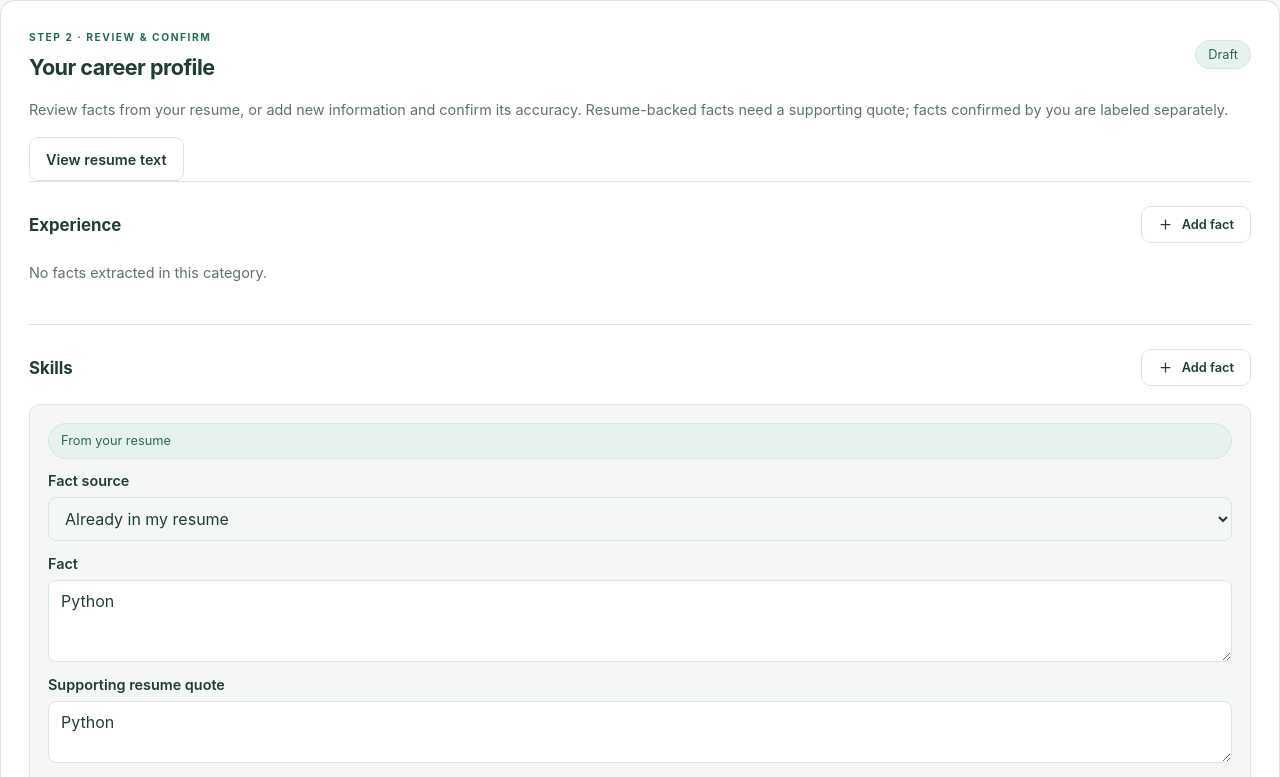
Test case: adds new information at the top, focuses it, and saves with explicit confirmation
This screenshot has width=1280, height=777.
Click the button with aria-label "Add skills fact" at (1196, 368), box [1141,349,1251,386]
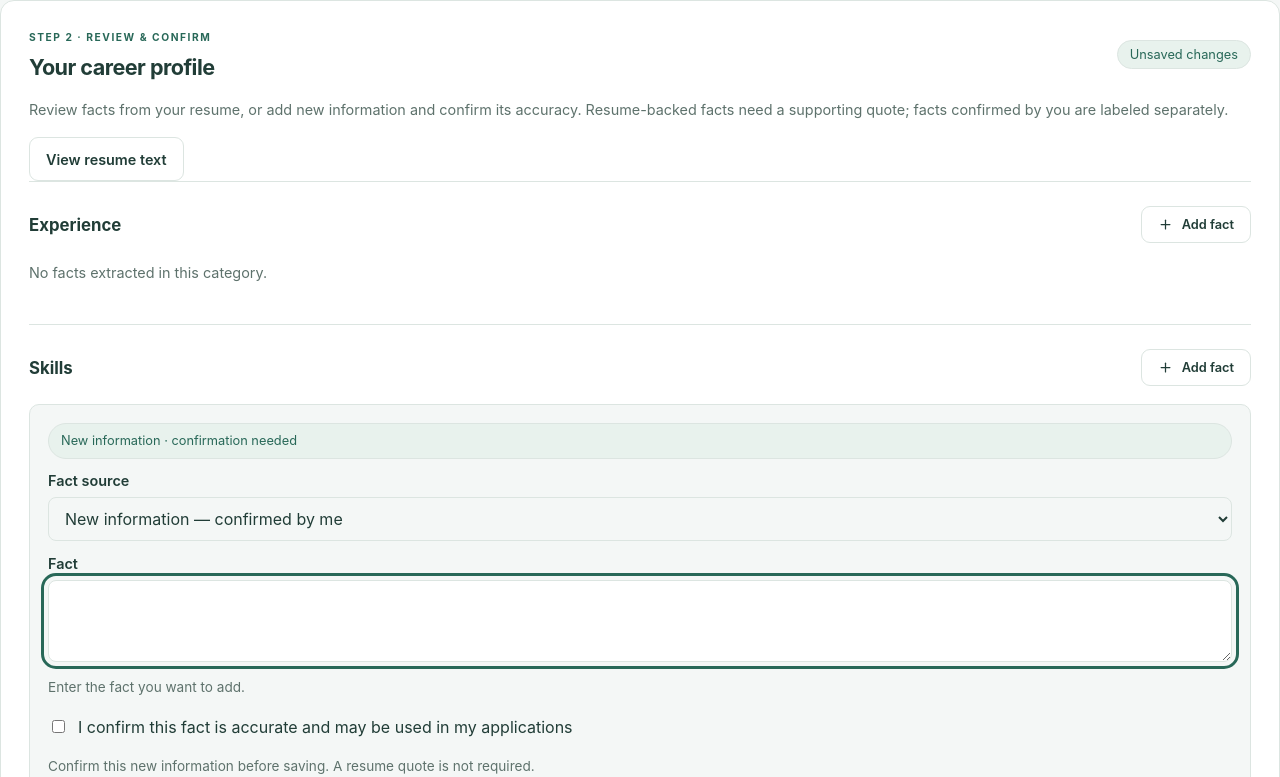
expect the text box labelled "Fact" is empty: met
Type "Terraform infrastructure experience" into the text box labelled "Fact" at (640, 621), box [48,580,1232,662]
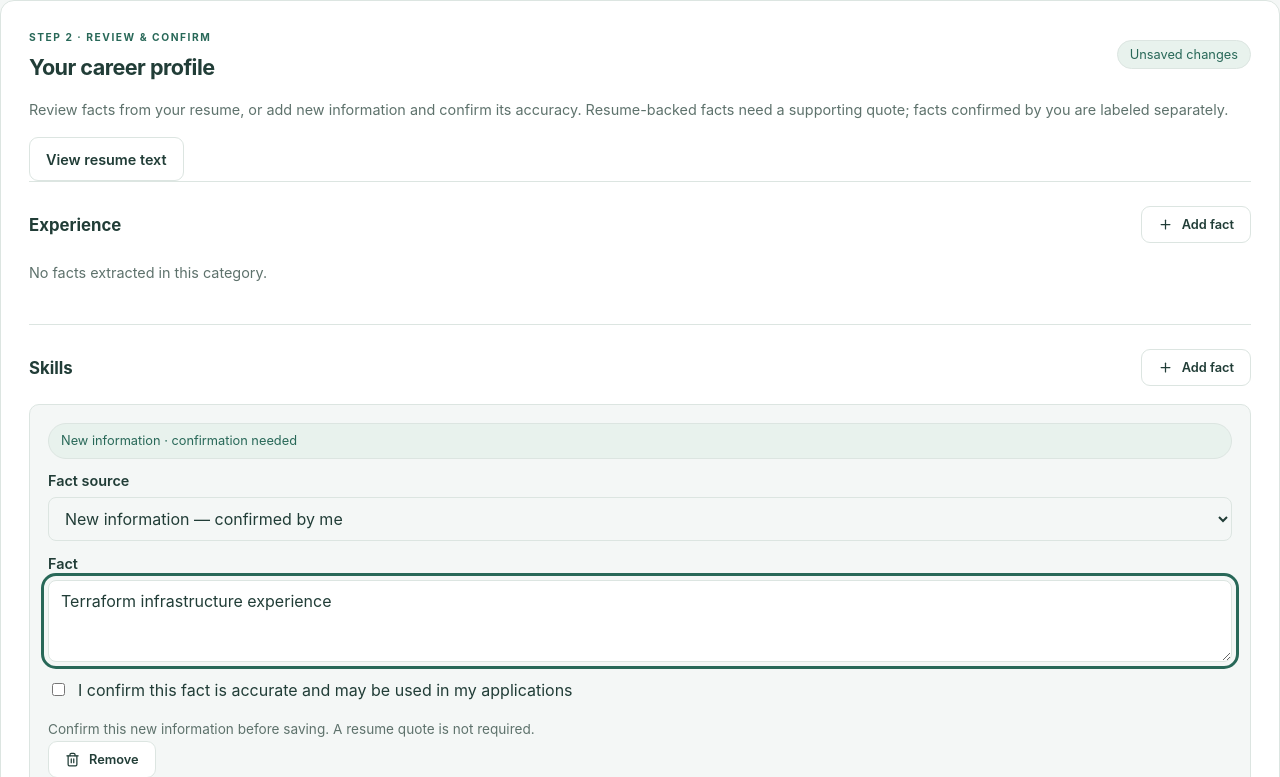
Click the checkbox labelled "I confirm this fact is accurate and may be used in my applications" at (58, 690), box [52,683,65,696]
(page scrolled)
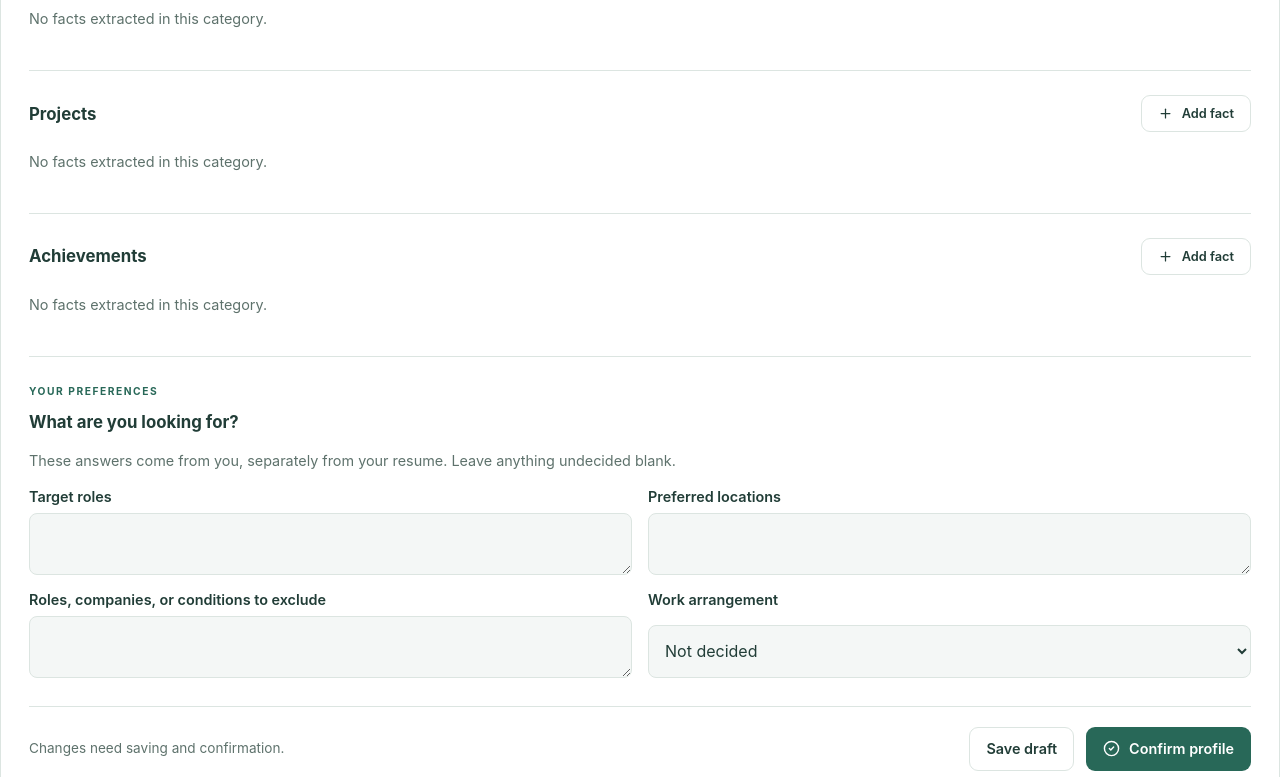
expect the button "Save draft" is enabled: met, box [969,727,1074,771]
Click the button "Confirm profile" at (1169, 749), box [1086,727,1251,771]
(page scrolled)
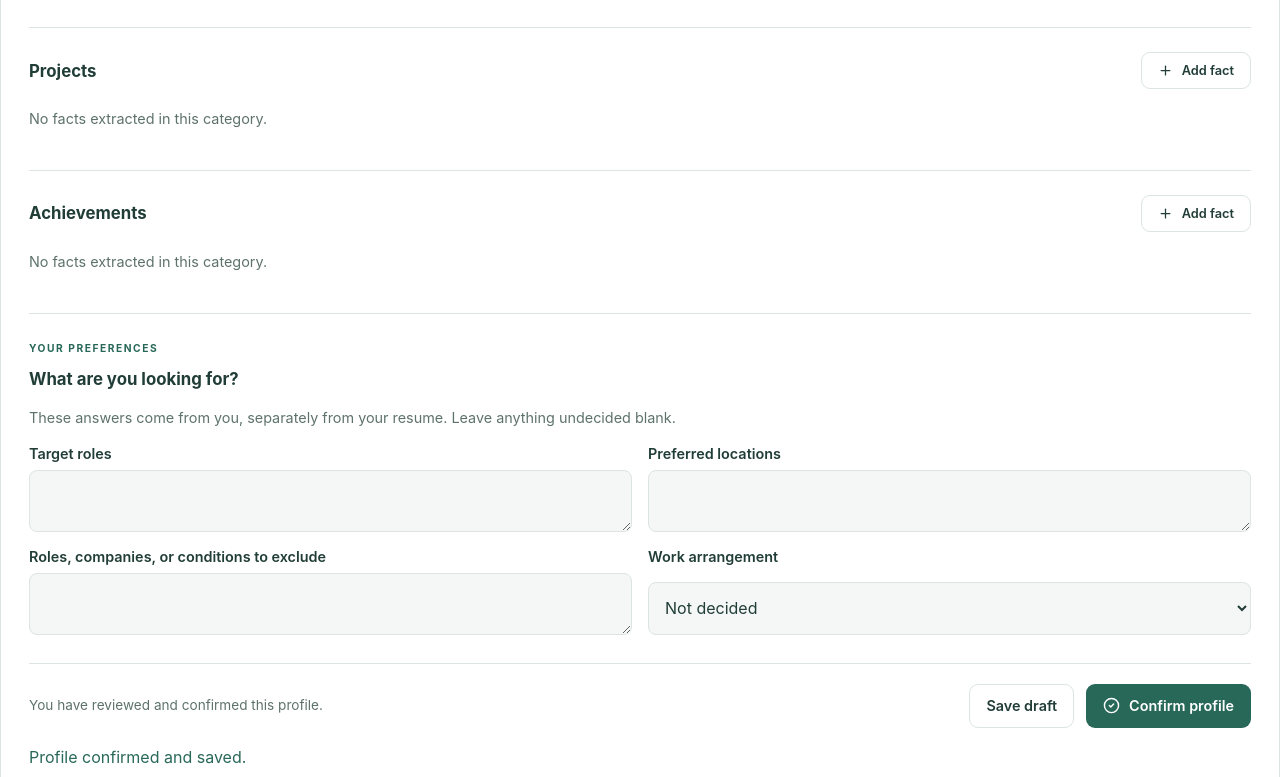
expect the text "Profile confirmed and saved." is shown: met, box [29,747,246,767]
